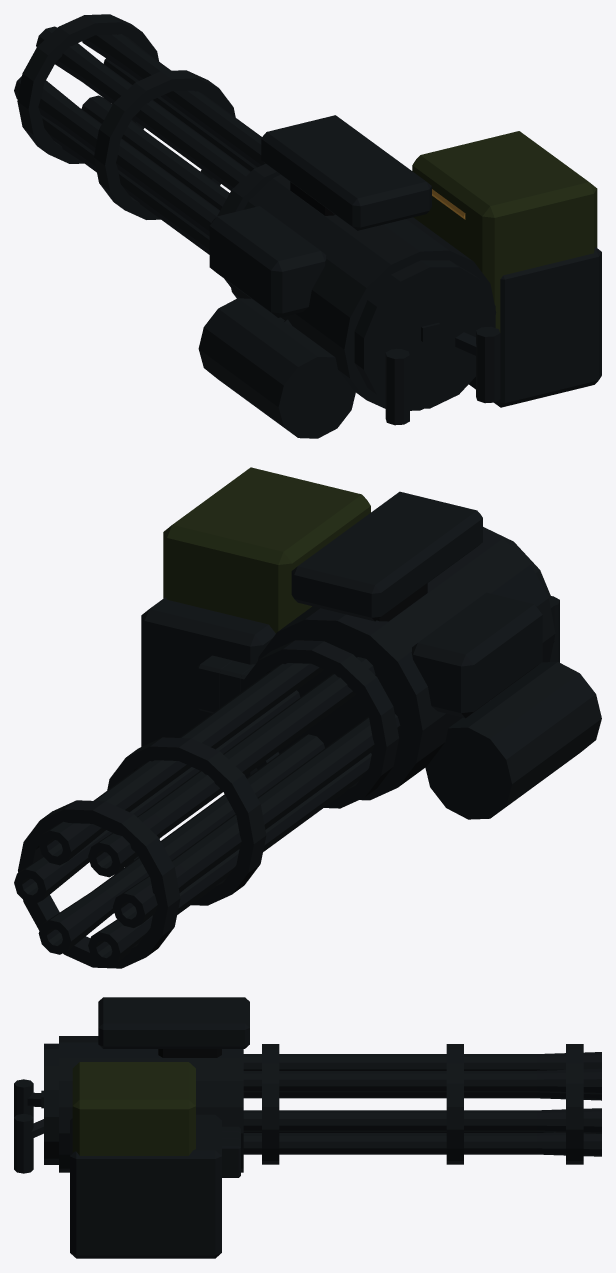
Rendered from Minigun762.obj.
3 views of the same model, one above another, from view 1: azimuth 30°, elevation 25°; view 2: azimuth 150°, elevation 25°; view 3: azimuth 270°, elevation 25° (orthographic). The views are drawn at different scales.
Visible parts, largest first — view 1: Minigun762_pitch, Minigun762_spin, Detachable_feed_box, Mount_lug; view 2: Minigun762_pitch, Minigun762_spin, Detachable_feed_box, Mount_lug; view 3: Minigun762_spin, Minigun762_pitch, Detachable_feed_box, Mount_lug, Mount_bearing_bridge.
Boxes of the visible parts, left/top/right/bottom form: Minigun762_pitch: left=198, top=174, right=601, bottom=438; Minigun762_spin: left=14, top=14, right=280, bottom=286; Detachable_feed_box: left=412, top=131, right=597, bottom=332; Mount_lug: left=261, top=115, right=431, bottom=230; Minigun762_pitch: left=141, top=527, right=601, bottom=819; Minigun762_spin: left=14, top=640, right=400, bottom=968; Detachable_feed_box: left=163, top=467, right=370, bottom=633; Mount_lug: left=291, top=491, right=482, bottom=621; Minigun762_spin: left=243, top=1044, right=601, bottom=1164; Minigun762_pitch: left=14, top=1036, right=243, bottom=1258; Detachable_feed_box: left=72, top=1062, right=195, bottom=1155; Mount_lug: left=98, top=997, right=249, bottom=1048; Mount_bearing_bridge: left=158, top=1049, right=221, bottom=1057.
Bounding box in the file's own units: 0.729 × 0.4916 × 1.48.
